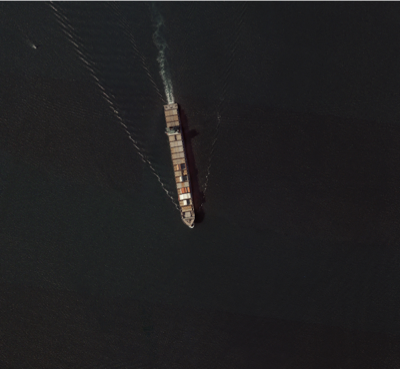boat: (162, 103, 197, 228), (33, 45, 37, 48)
